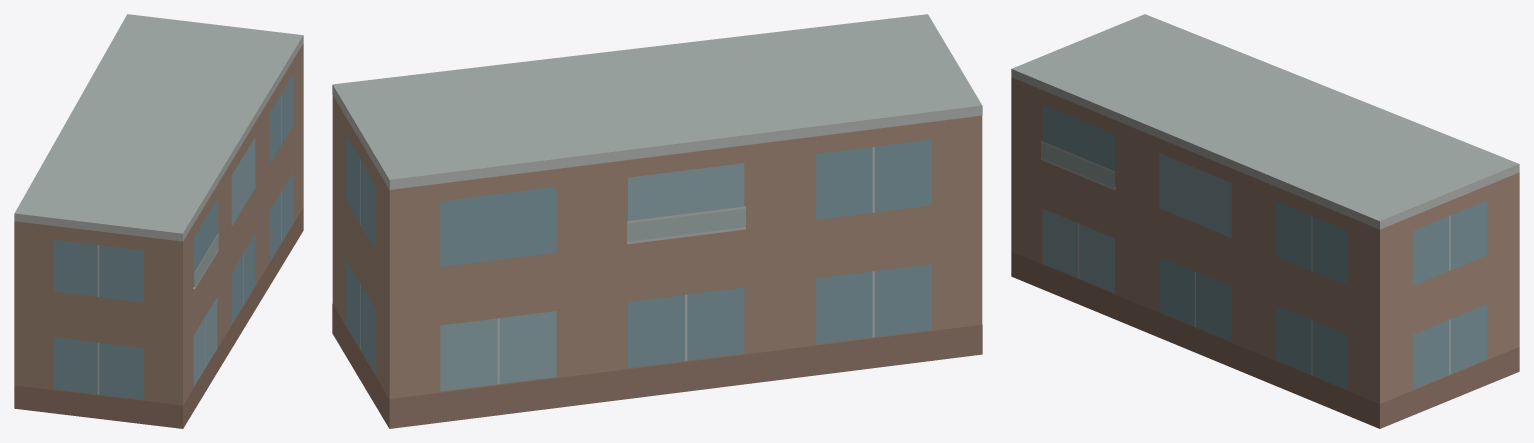
File: survey-upis-32508782.glb
3 renders of one model, left to right at view 1: azimuth 30°, elevation 25°; view 2: azimuth 150°, elevation 25°; view 3: azimuth 270°, elevation 25°, orthographic. The views are drawn at different scales.
Visible parts, largest first — view 1: survey-upis-32508782.tmp; view 2: survey-upis-32508782.tmp; view 3: survey-upis-32508782.tmp.
Boxes of the visible parts, bbox=[...] form: survey-upis-32508782.tmp: bbox=[14, 14, 303, 428]; survey-upis-32508782.tmp: bbox=[332, 14, 982, 428]; survey-upis-32508782.tmp: bbox=[1011, 14, 1519, 428].
Bounding box in the file's own units: 13.07 × 6.1 × 13.55.
